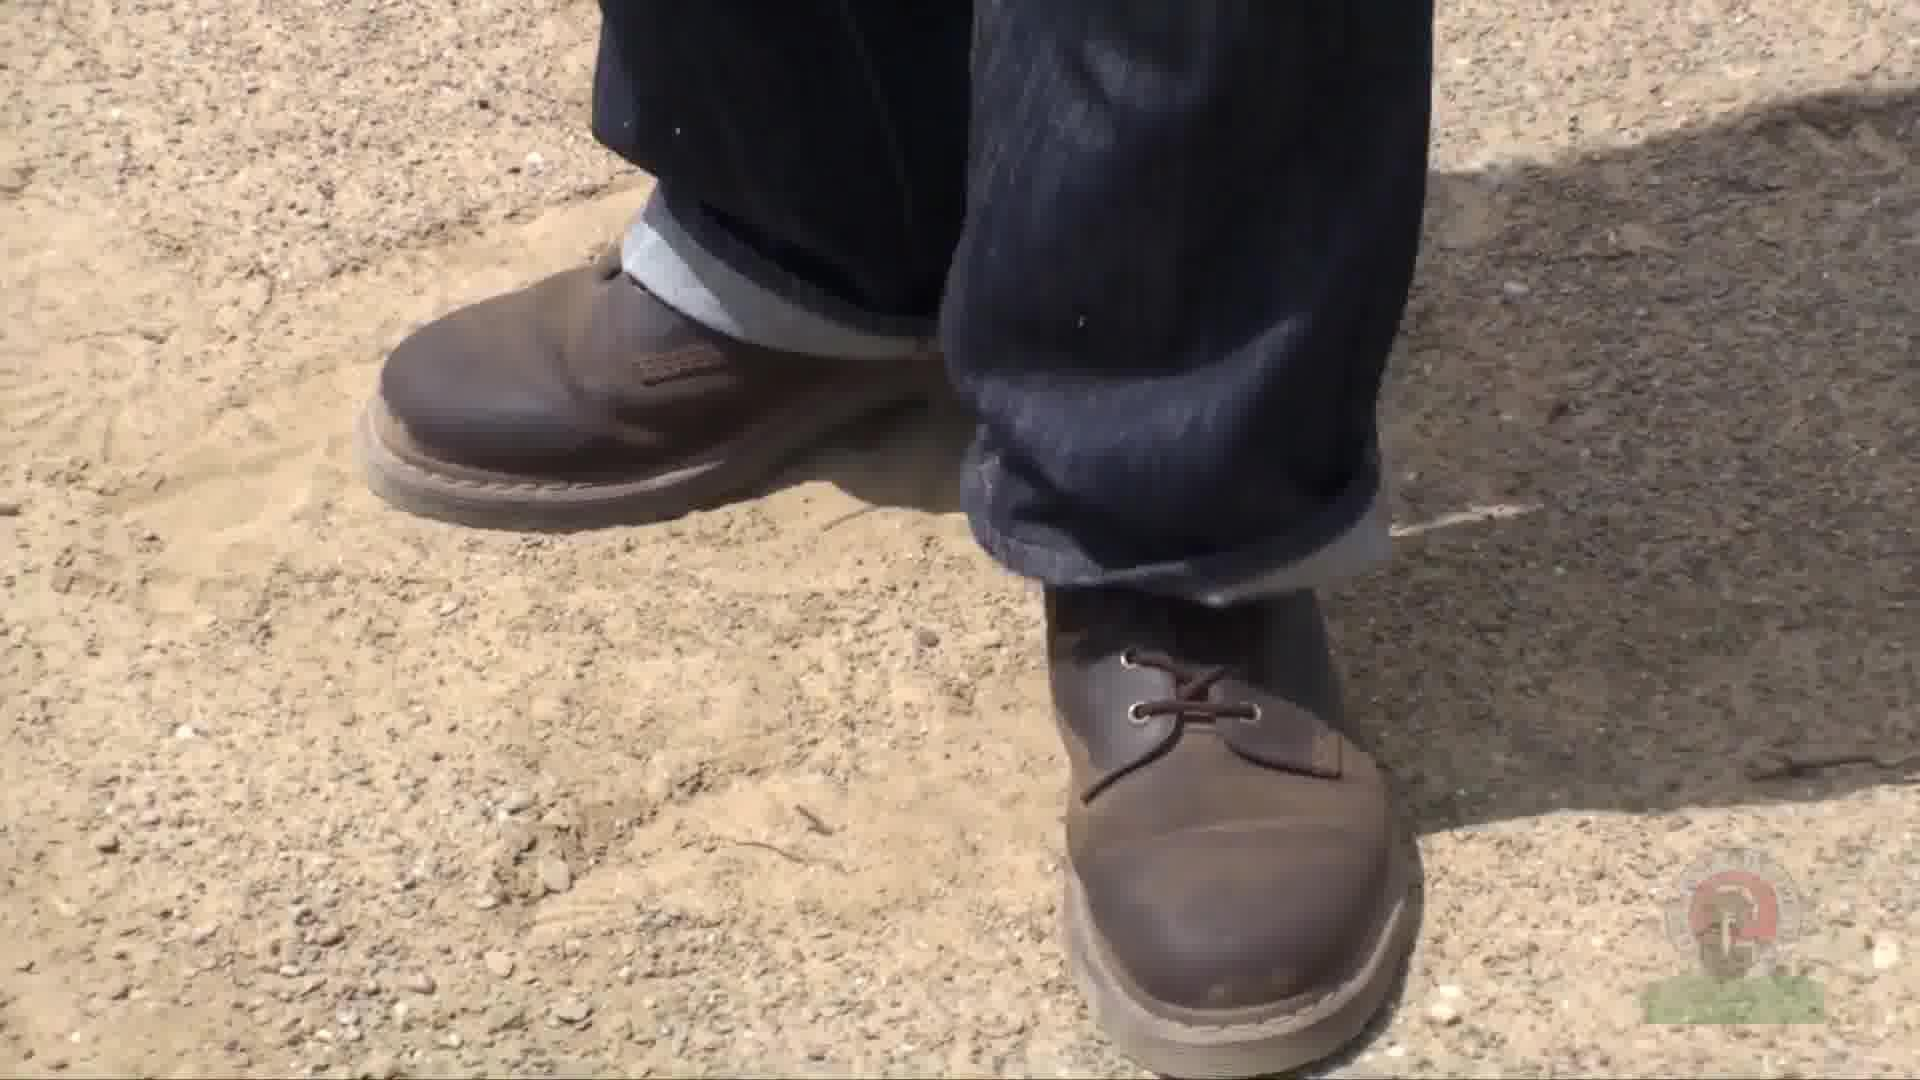safety boot: (332, 94, 1433, 1079)
